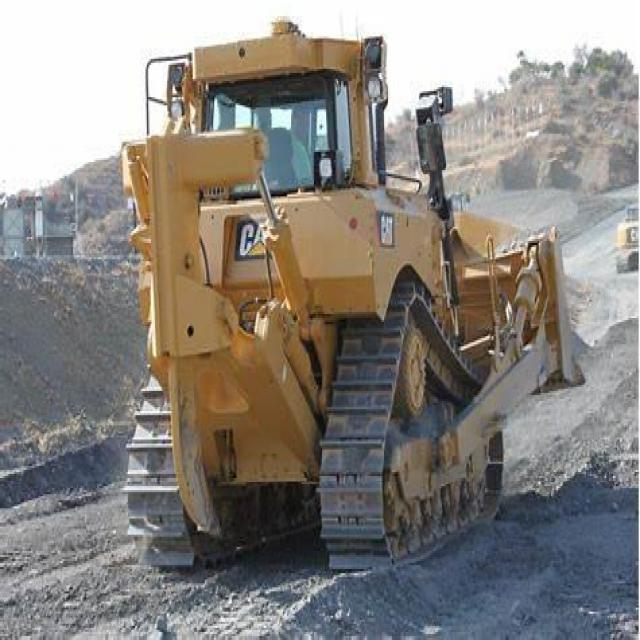Bulldozer: (96, 2, 638, 636)
